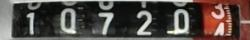digits: (210, 2, 228, 37), (166, 8, 189, 34), (135, 10, 153, 34), (60, 7, 76, 33), (97, 12, 114, 34), (26, 12, 35, 34)
